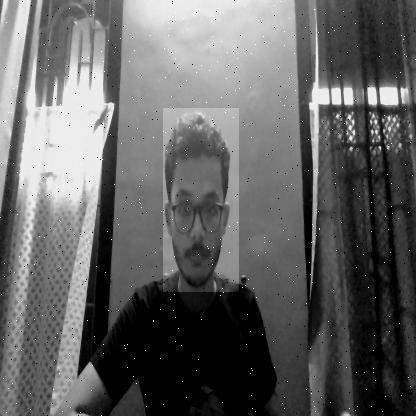Normal: (163, 108, 239, 292)
